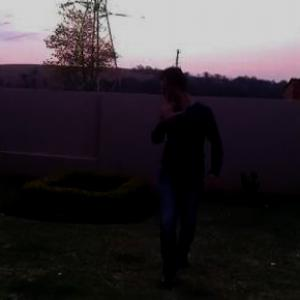follow_hand: (155, 92, 182, 121)
